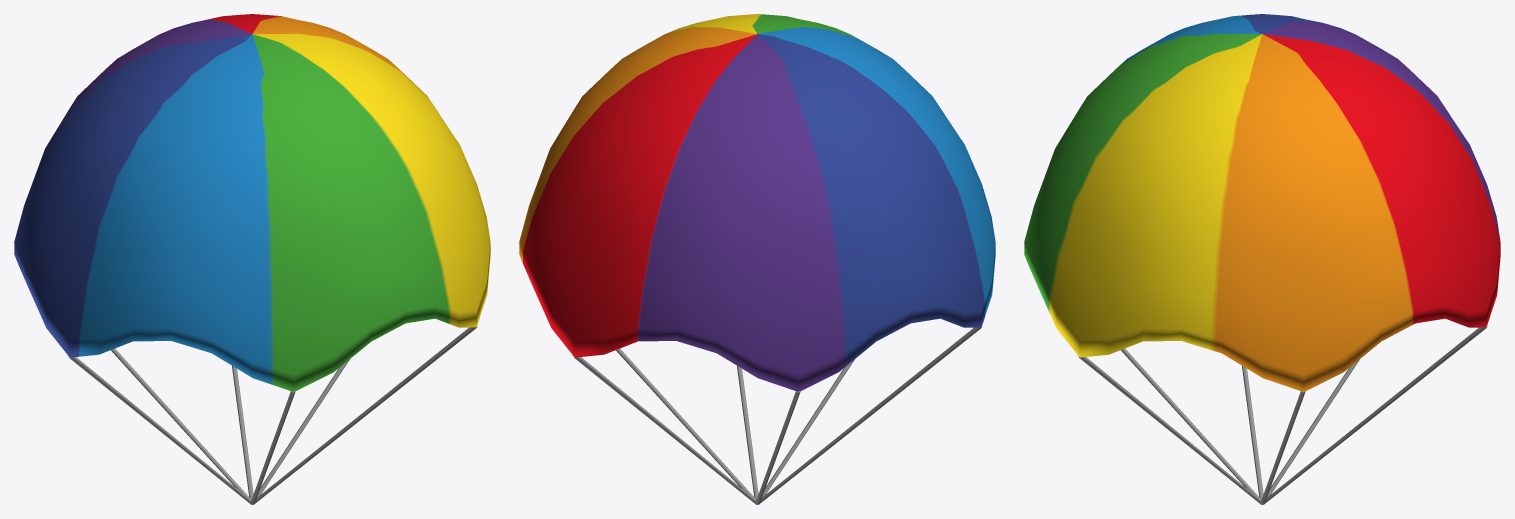
File: RainbowParachute.FBX
The picture shows the model from 3 angles, left to right: view 1: azimuth 30°, elevation 25°; view 2: azimuth 150°, elevation 25°; view 3: azimuth 270°, elevation 25°; orthographic projection.
Visible parts, largest first — view 1: Parachute; view 2: Parachute; view 3: Parachute.
Boxes of the visible parts, <box> form: Parachute: <box>14,14,490,504</box>; Parachute: <box>519,14,995,504</box>; Parachute: <box>1024,14,1500,504</box>.
Size of the model in its own units: 0.4944 by 0.538 by 0.4943.
2 materials, 1 textured.
